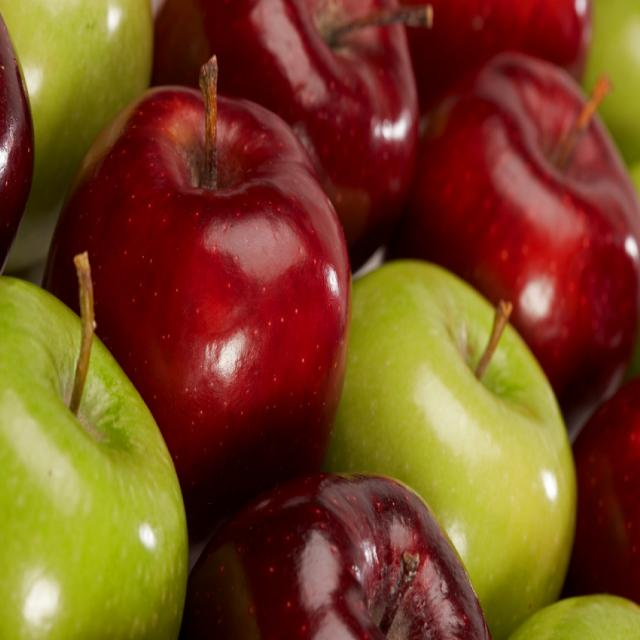apple: (51, 54, 351, 534), (326, 256, 574, 632), (403, 49, 640, 413), (158, 0, 420, 269), (0, 272, 190, 640), (180, 464, 495, 640), (0, 0, 154, 256), (405, 1, 590, 122), (570, 378, 640, 610), (0, 6, 35, 276), (588, 0, 640, 170), (497, 583, 640, 640)
